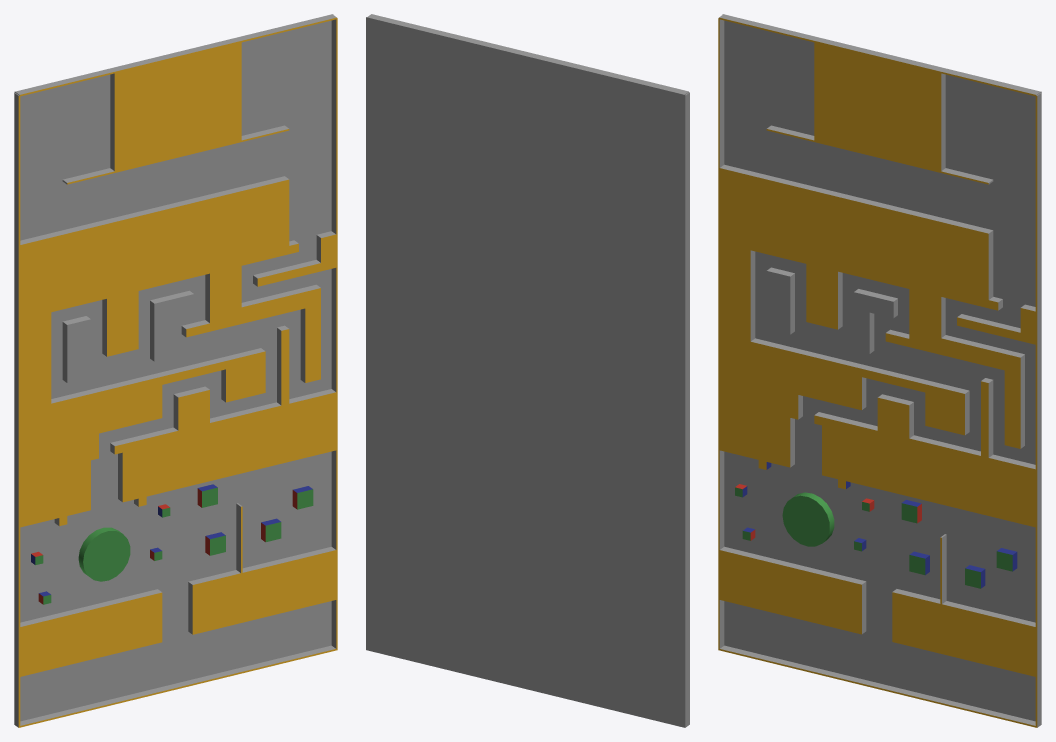
The model's file is arena_90.dae.
3 renders of one model, left to right at view 1: azimuth 30°, elevation 25°; view 2: azimuth 150°, elevation 25°; view 3: azimuth 330°, elevation 25°, orthographic.
Visible parts, largest first — view 1: Body2_Steel_-_Satin, Body2_Powder_Coat_(Yellow), Body2_Powder_Coat_(Green), Body2_Powder_Coat_(Red); view 2: Body2_Steel_-_Satin; view 3: Body2_Steel_-_Satin, Body2_Powder_Coat_(Yellow), Body2_Powder_Coat_(Green), Body2_Powder_Coat_(Blue).
Boxes of the visible parts, <box> form: Body2_Steel_-_Satin: <box>14,14,337,727</box>; Body2_Powder_Coat_(Yellow): <box>18,17,337,727</box>; Body2_Powder_Coat_(Green): <box>35,487,313,604</box>; Body2_Powder_Coat_(Red): <box>31,488,297,604</box>; Body2_Steel_-_Satin: <box>366,14,689,727</box>; Body2_Steel_-_Satin: <box>718,14,1041,727</box>; Body2_Powder_Coat_(Yellow): <box>718,17,1037,727</box>; Body2_Powder_Coat_(Green): <box>735,487,1012,588</box>; Body2_Powder_Coat_(Blue): <box>742,462,1017,588</box>.
Size of the model in its own units: 20.1 by 0.5 by 38.1.
